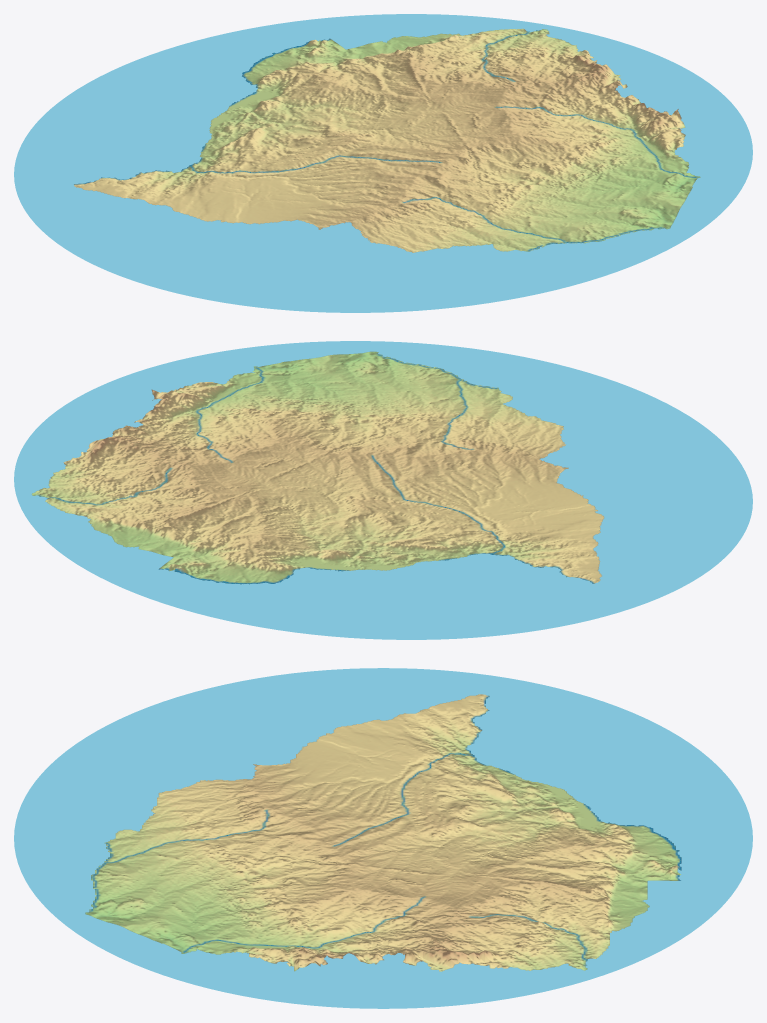
File: ZWE-terrain.glb
The picture shows the model from 3 angles, top to bottom: view 1: azimuth 30°, elevation 25°; view 2: azimuth 150°, elevation 25°; view 3: azimuth 270°, elevation 25°; orthographic projection. The views are drawn at different scales.
Visible parts, largest first — view 1: Relevo com hidrografia; view 2: Relevo com hidrografia; view 3: Relevo com hidrografia.
Part boxes in pixels (bbox=[...]): Relevo com hidrografia: bbox=[14, 14, 752, 312]; Relevo com hidrografia: bbox=[14, 341, 752, 639]; Relevo com hidrografia: bbox=[14, 668, 752, 1008].
Size of the model in its own units: 2 by 0.0425 by 1.83.
Materials: 2 (1 with a texture image).
